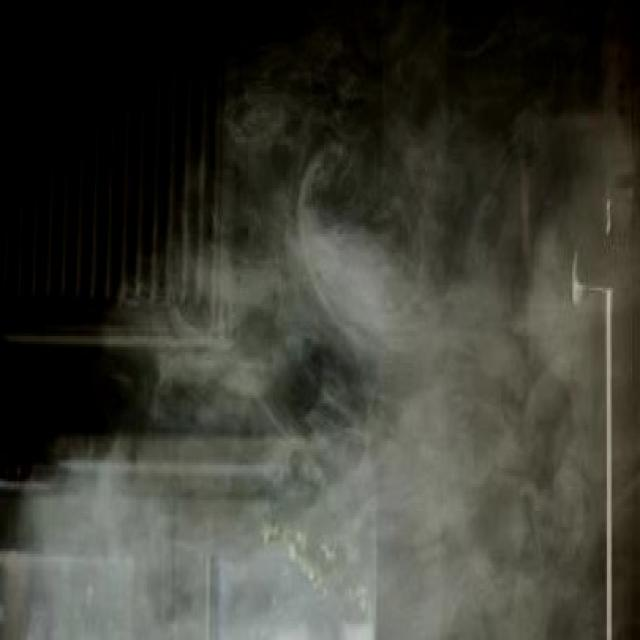smoke: (191, 184, 628, 631)
